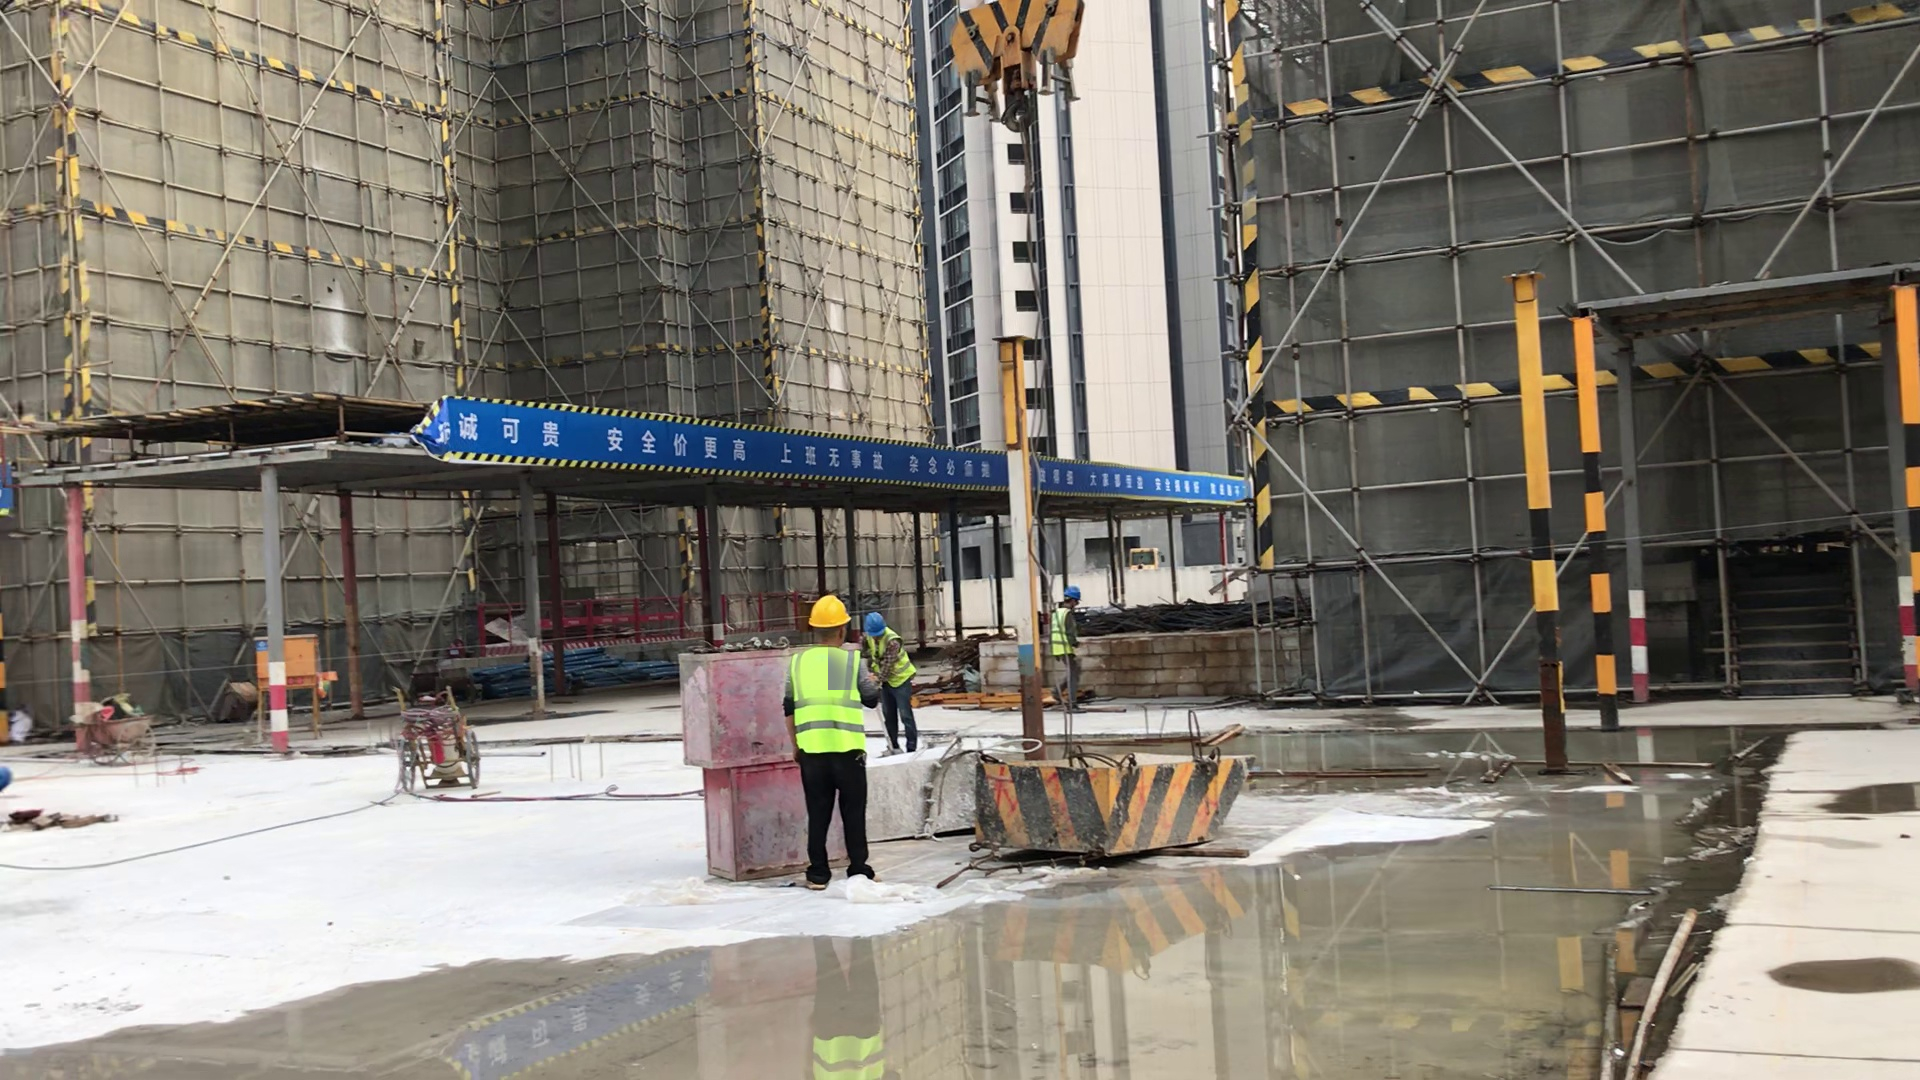ebox: (254, 635, 320, 687)
fence: (477, 588, 800, 661)
handcart: (392, 680, 479, 797)
helmet: (808, 594, 849, 627), (864, 612, 884, 634), (1062, 586, 1080, 601)
hook: (948, 4, 1086, 129)
hopper: (977, 750, 1259, 853), (867, 737, 1019, 838)
person: (784, 594, 881, 891), (862, 614, 918, 756), (1049, 585, 1088, 713)
slogan: (435, 393, 1244, 512)
vest: (793, 645, 863, 753), (867, 630, 918, 686), (1050, 609, 1075, 658)
